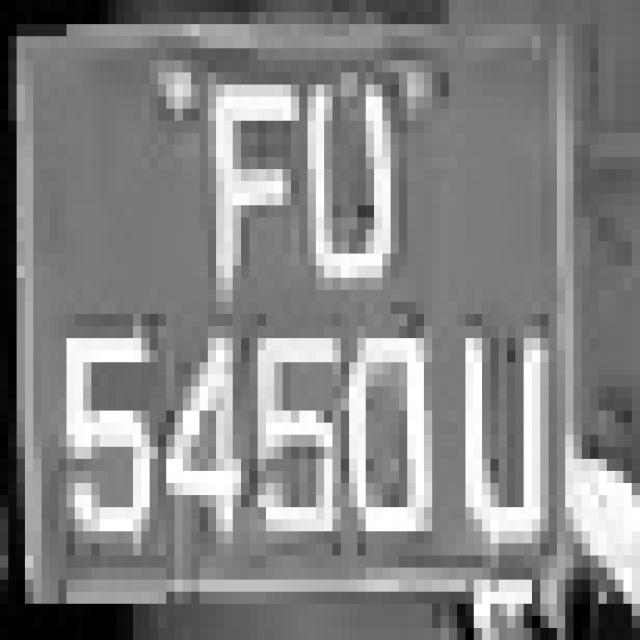0: (291, 48, 415, 302), (324, 302, 449, 543)
4: (133, 290, 241, 567)
5: (41, 290, 158, 555), (241, 278, 341, 543)
F: (191, 72, 291, 314)
U: (441, 302, 548, 592)
